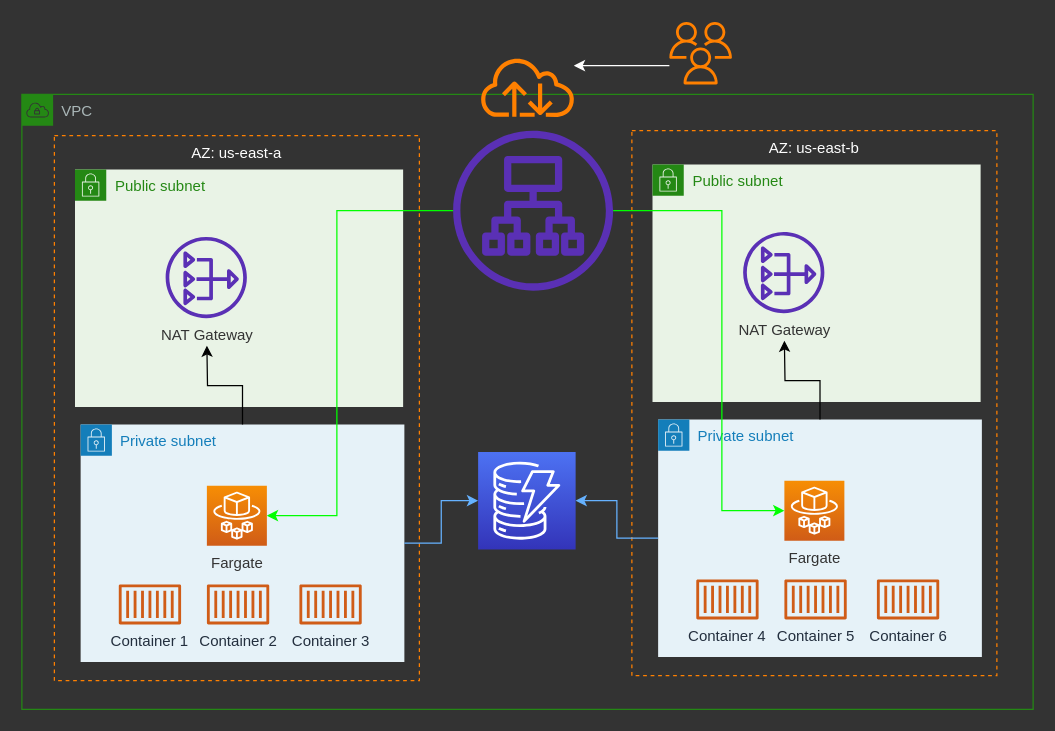
Some shapes in this 1055 by 731 pixel diagram are drawn without their labels. The centre of each missing label's shape, as x and y in pixels:
Application Load Balancer: point (532, 210)
DynamoDB: point (526, 500)
Users: point (700, 52)
